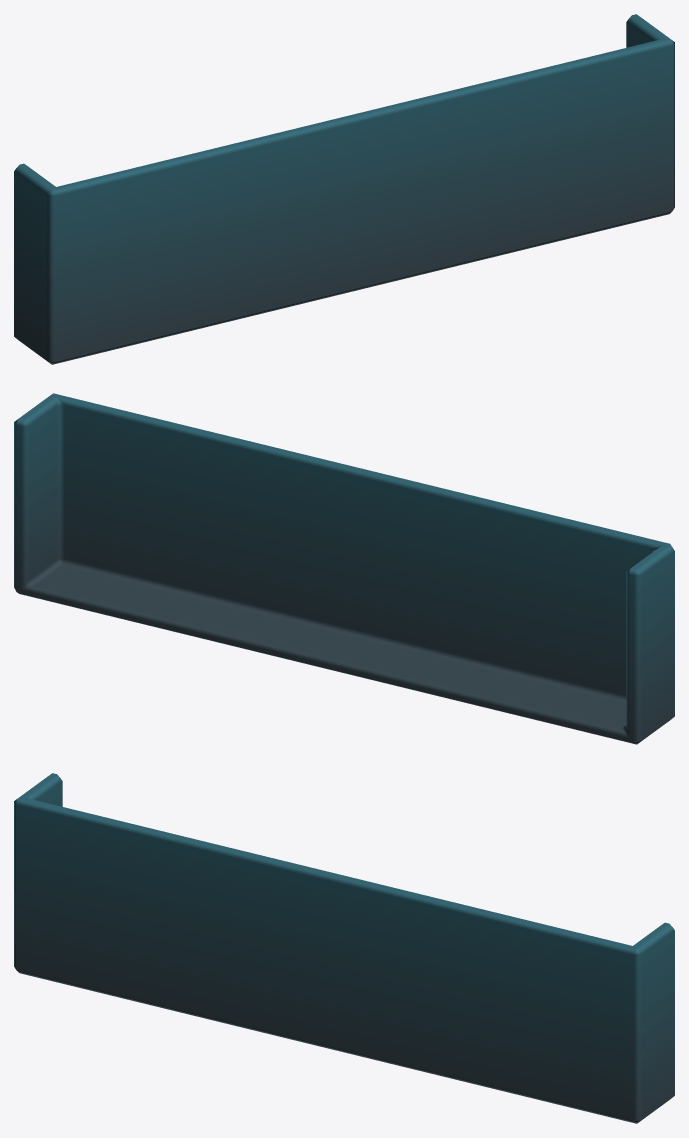
Rendered from SM_HandbookHolder.fbx.
3 renders of one model, top to bottom at view 1: azimuth 30°, elevation 25°; view 2: azimuth 150°, elevation 25°; view 3: azimuth 330°, elevation 25°, orthographic.
Visible parts, largest first — view 1: HandbookHolder; view 2: HandbookHolder; view 3: HandbookHolder.
Part boxes in pixels (x1,y1,x2,y2): HandbookHolder: (14,14,674,364); HandbookHolder: (14,393,674,744); HandbookHolder: (14,773,674,1123).
Size of the model in its own units: 280 by 75 by 30.
